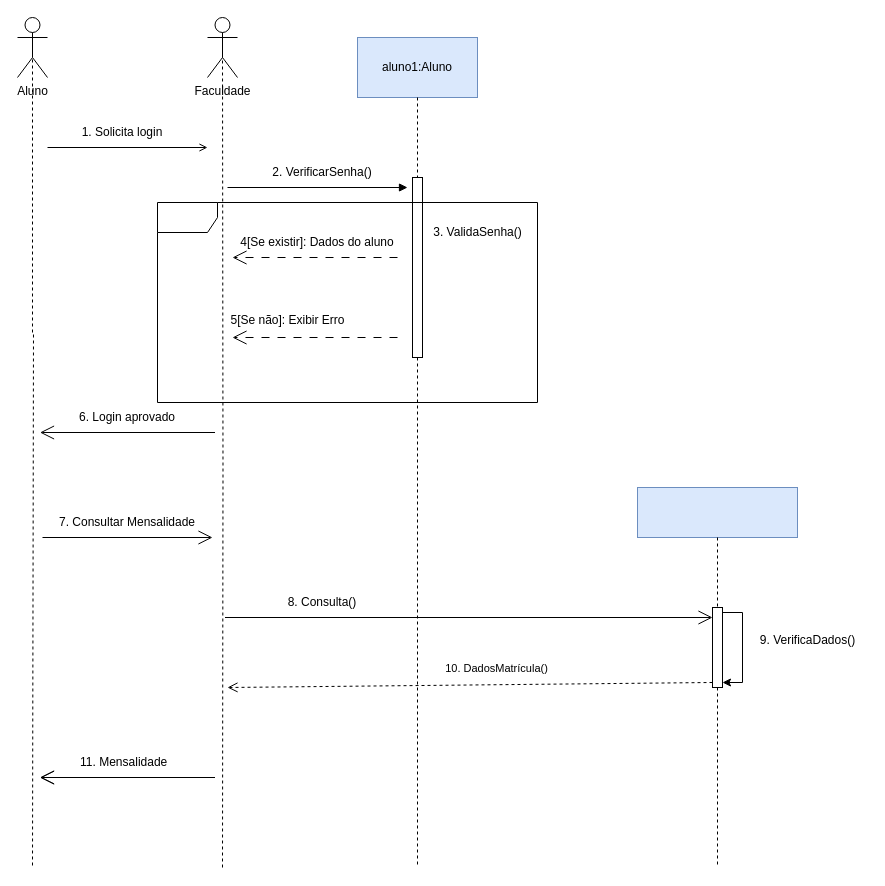
The diagram is 885 pixels wide and 886 high, and some of its shapes have lost their labels. Here are the shapes that lost their labels. From the top down, the box of each, then its label:
(156, 202, 538, 402): alt Acesso Login
(636, 486, 798, 538): banco1:BancoFaculdade
